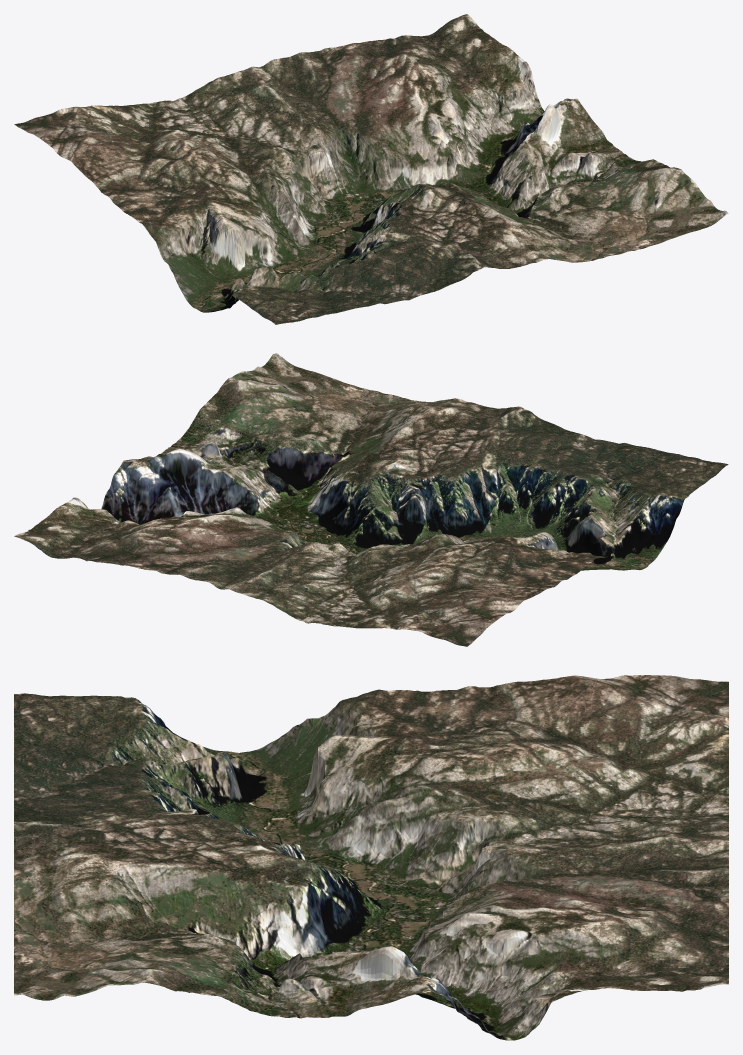
File: terrain.glb
The picture shows the model from 3 angles, top to bottom: view 1: azimuth 30°, elevation 25°; view 2: azimuth 150°, elevation 25°; view 3: azimuth 270°, elevation 25°; orthographic projection. The views are drawn at different scales.
Size of the model in its own units: 12000 by 1548 by 12000.
Materials: 1 (1 with a texture image).
